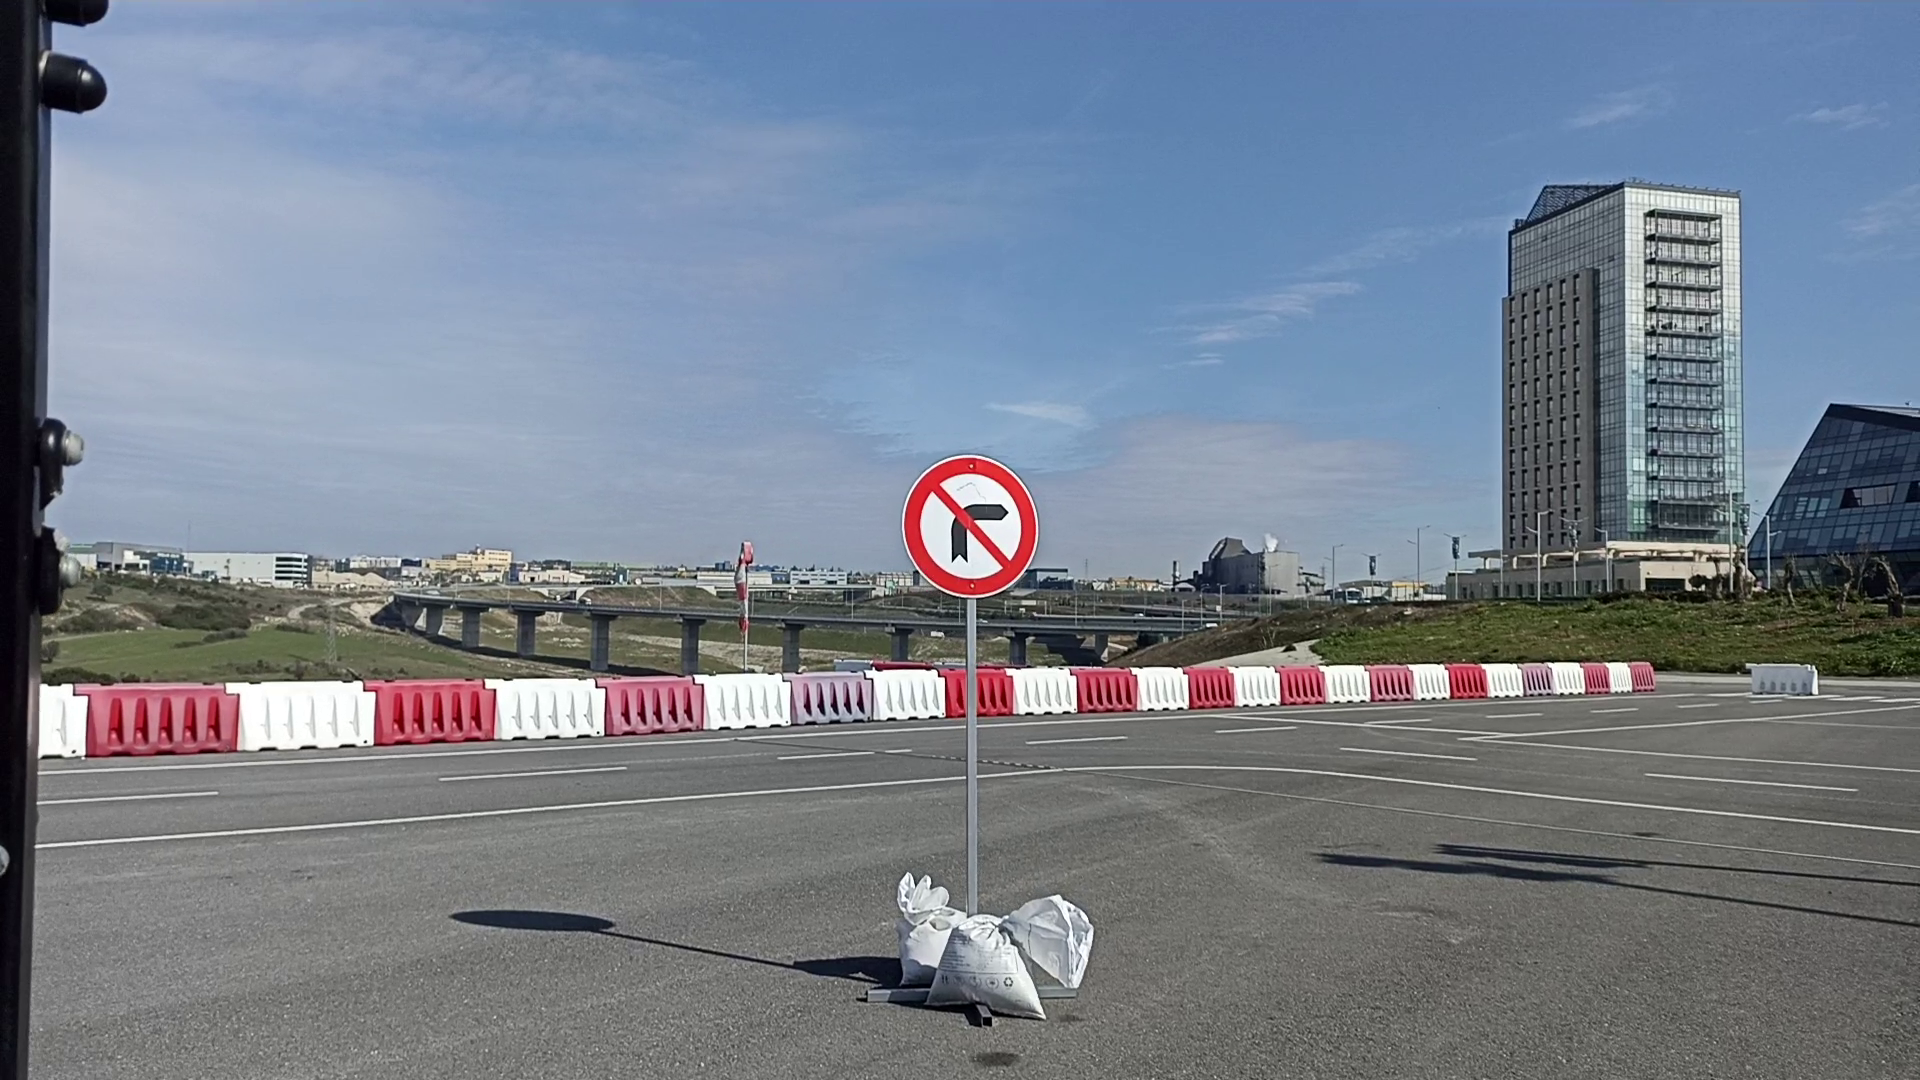noleftturn: (898, 451, 1039, 601)
